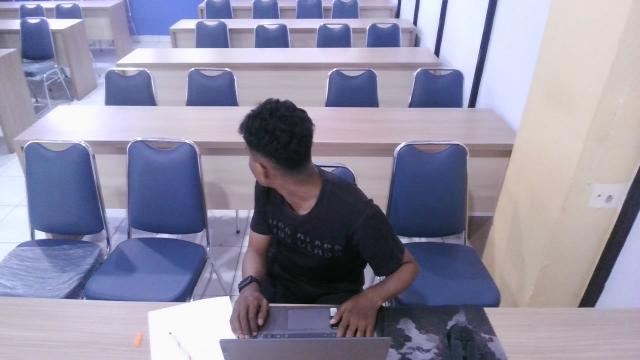Turning_Back: (219, 87, 388, 309)
